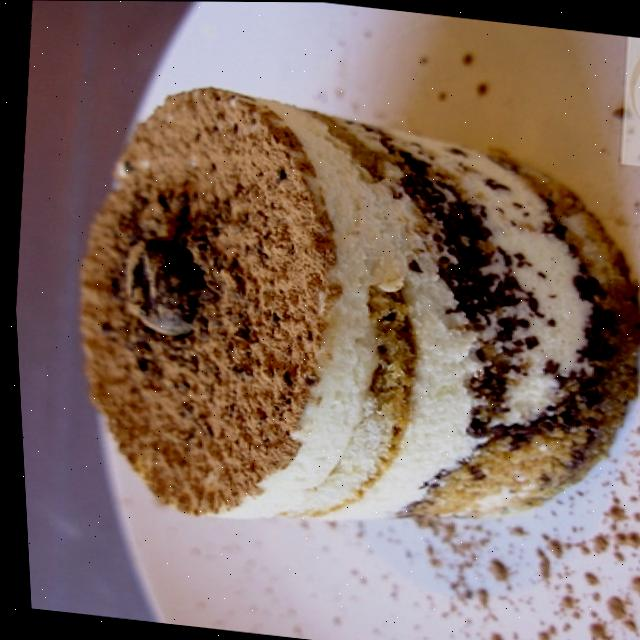蛋糕甜品: (20, 0, 640, 640)
